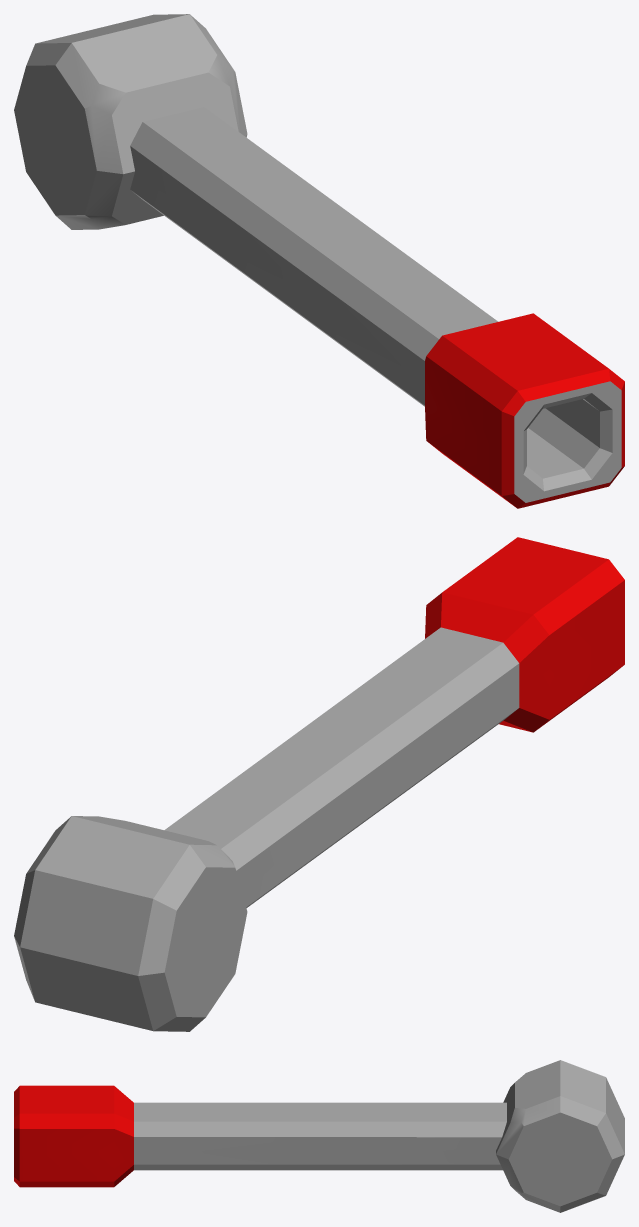
Rendered from Enemy_TurretBarrel.fbx.
3 views of the same model, one above another, from view 1: azimuth 30°, elevation 25°; view 2: azimuth 150°, elevation 25°; view 3: azimuth 270°, elevation 25° (orthographic). The views are drawn at different scales.
Visible parts, largest first — view 1: Enemy_Turret_Barrel; view 2: Enemy_Turret_Barrel; view 3: Enemy_Turret_Barrel.
Part boxes in pixels (bbox=[...]): Enemy_Turret_Barrel: bbox=[14, 14, 624, 508]; Enemy_Turret_Barrel: bbox=[14, 537, 624, 1031]; Enemy_Turret_Barrel: bbox=[14, 1060, 624, 1212].
Size of the model in its own units: 0.6434 by 0.7639 by 3.62.
